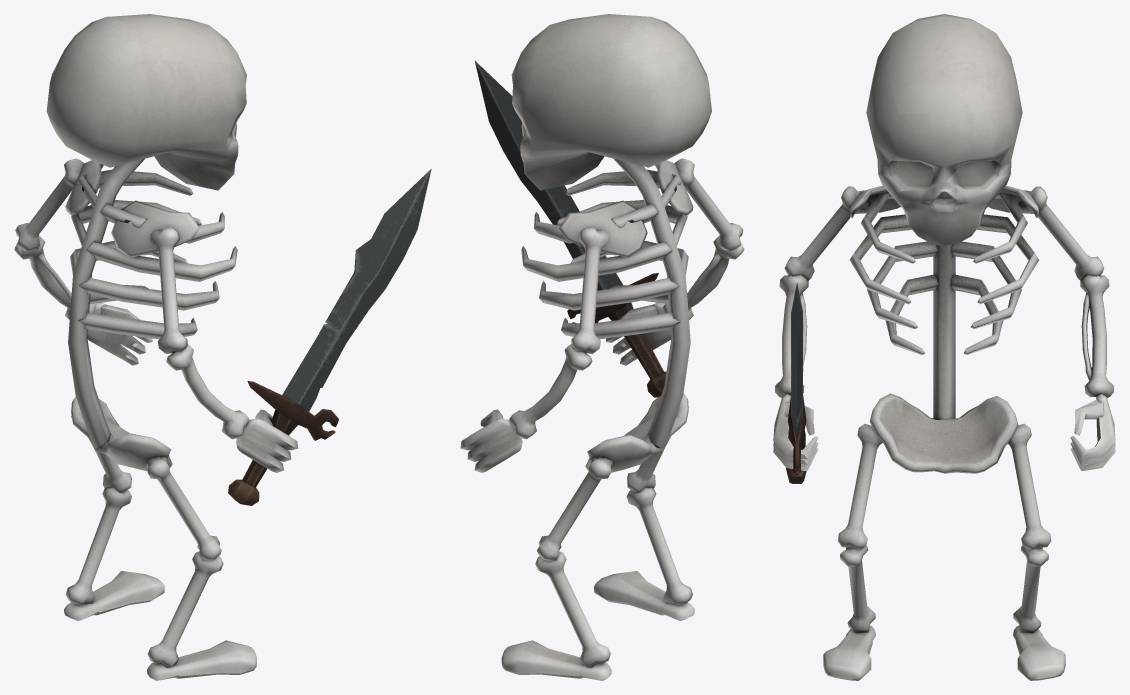
File: SwordsmanSkeleton.glb
The picture shows the model from 3 angles, left to right: view 1: azimuth 30°, elevation 25°; view 2: azimuth 150°, elevation 25°; view 3: azimuth 270°, elevation 25°; orthographic projection.
Parts seen in each view (by area): view 1: Cube.003, Cube.009; view 2: Cube.003, Cube.009; view 3: Cube.003, Cube.009.
Boxes of the visible parts, box(x1,y1,x2,y2) form: Cube.003: box(14, 14, 298, 680); Cube.009: box(228, 169, 431, 505); Cube.003: box(460, 14, 744, 680); Cube.009: box(475, 61, 666, 397); Cube.003: box(773, 14, 1115, 680); Cube.009: box(786, 282, 806, 483).
Size of the model in its own units: 0.4678 by 0.9238 by 0.4603.
1 material, 1 textured.
